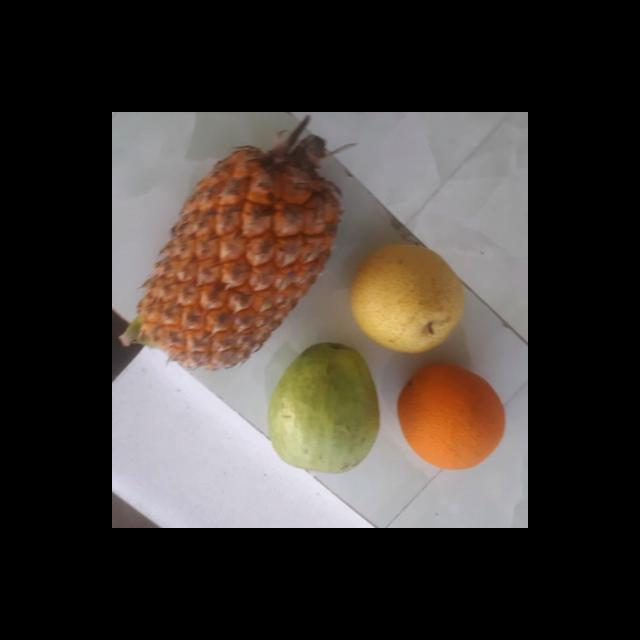guava: (264, 344, 382, 476)
orange: (393, 361, 509, 468)
pear: (346, 244, 465, 354)
pineapple: (128, 140, 334, 368)
